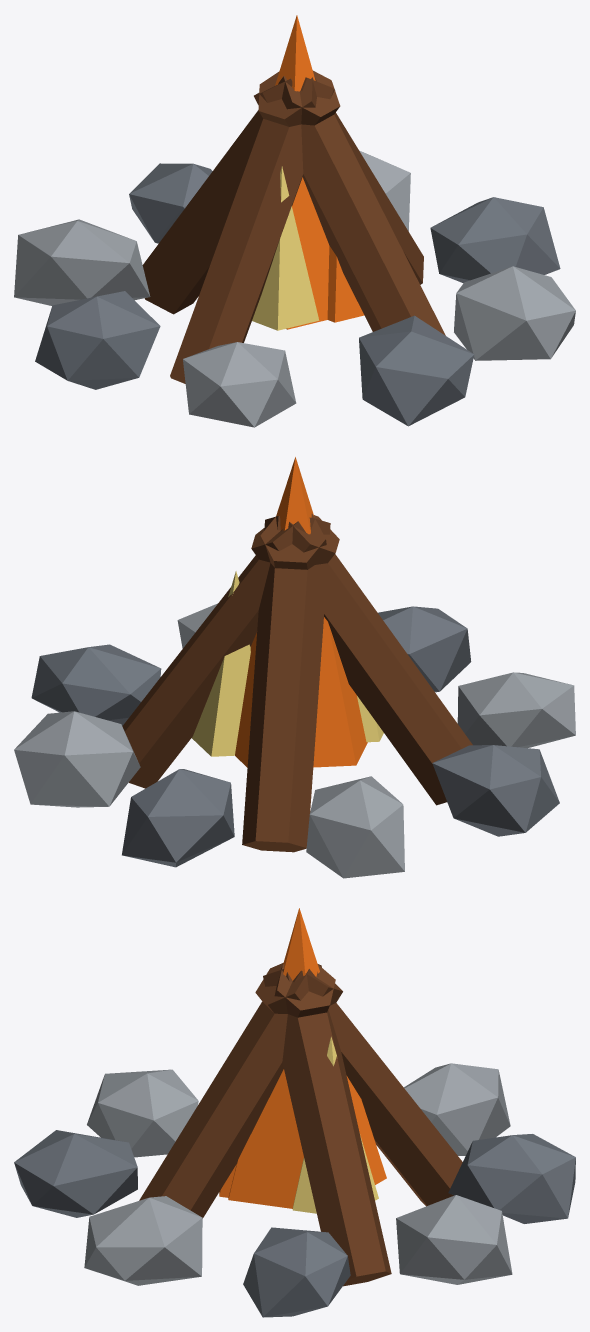
Rendered from Campfire.fbx.
The picture shows the model from 3 angles, top to bottom: view 1: azimuth 30°, elevation 25°; view 2: azimuth 150°, elevation 25°; view 3: azimuth 270°, elevation 25°; orthographic projection. The views are drawn at different scales.
Parts seen in each view (by area): view 1: Campfire; view 2: Campfire; view 3: Campfire.
Boxes of the visible parts, <box> form: Campfire: <box>14,15,575,427</box>; Campfire: <box>14,457,575,878</box>; Campfire: <box>14,908,575,1317</box>.
Bounding box in the file's own units: 4.21 × 2.68 × 4.23.
Materials: 1 (1 with a texture image).
